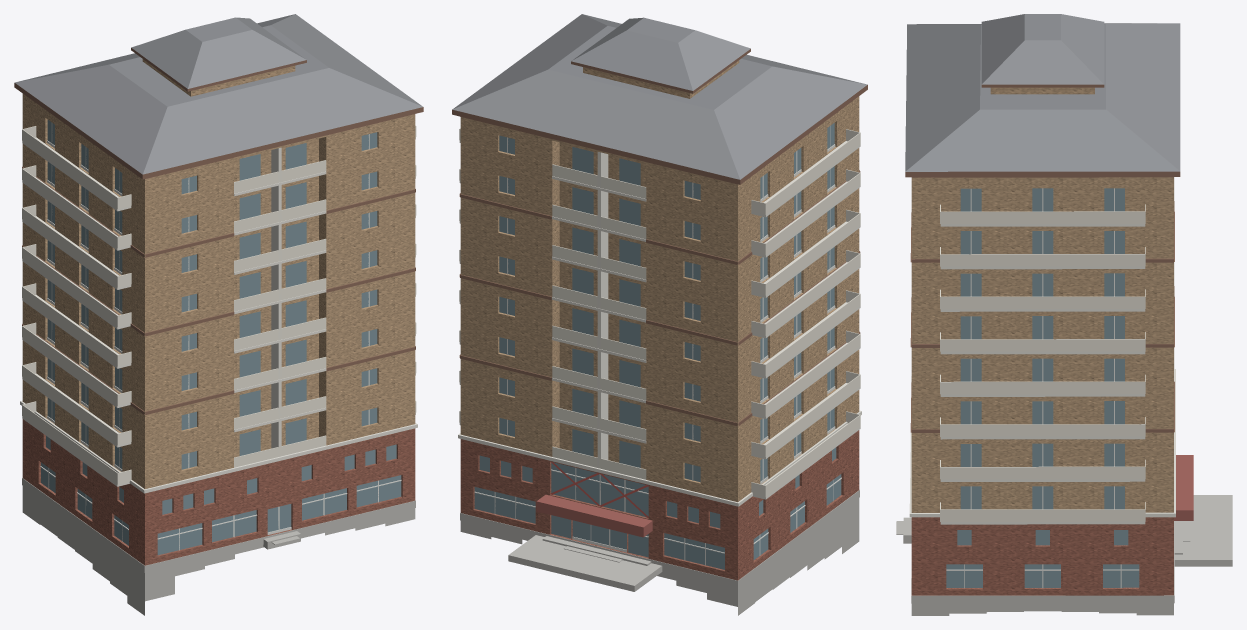
The picture shows the model from 3 angles, left to right: view 1: azimuth 30°, elevation 25°; view 2: azimuth 150°, elevation 25°; view 3: azimuth 270°, elevation 25°; orthographic projection. The views are drawn at different scales.
Parts seen in each view (by area): view 1: D3 ochre brick, D3 dark grey roof tiles, D3 blue grey glass, D3 red brick base, D3 balcony railing pole, D3 granite plinth and paving, D3 balcony slab edge pole, D3 dark brown band, D3 white window frames, D3 white string course; view 2: D3 ochre brick, D3 dark grey roof tiles, D3 blue grey glass, D3 balcony railing pole, D3 red brick base, D3 granite plinth and paving, D3 balcony slab edge pole, D3 dark brown band, D3 white window frames, D3 maroon sign band, D3 white string course; view 3: D3 ochre brick, D3 dark grey roof tiles, D3 balcony railing pole, D3 red brick base, D3 blue grey glass, D3 granite plinth and paving, D3 balcony slab edge pole, D3 dark brown band, D3 white window frames, D3 maroon sign band, D3 white string course.
Part boxes in pixels (x1,y1,x2,y2): D3 ochre brick: (22, 59, 415, 488); D3 dark grey roof tiles: (15, 14, 422, 174); D3 blue grey glass: (41, 120, 401, 555); D3 red brick base: (22, 419, 415, 565); D3 balcony railing pole: (22, 125, 416, 484); D3 granite plinth and paving: (22, 478, 415, 615); D3 balcony slab edge pole: (22, 137, 415, 486); D3 dark brown band: (14, 48, 423, 414); D3 white window frames: (40, 122, 401, 550); D3 white string course: (20, 400, 417, 493); D3 ochre brick: (460, 60, 859, 502); D3 dark grey roof tiles: (452, 14, 867, 179); D3 blue grey glass: (474, 123, 841, 569); D3 balcony railing pole: (459, 128, 860, 497); D3 red brick base: (460, 430, 859, 580); D3 granite plinth and paving: (460, 489, 859, 615); D3 balcony slab edge pole: (459, 140, 860, 499); D3 dark brown band: (452, 49, 867, 426); D3 white window frames: (474, 126, 841, 565); D3 maroon sign band: (536, 494, 652, 537); D3 white string course: (458, 410, 861, 506); D3 ochre brick: (911, 87, 1173, 512); D3 dark grey roof tiles: (905, 14, 1180, 171); D3 balcony railing pole: (940, 204, 1145, 521); D3 red brick base: (911, 517, 1173, 595); D3 blue grey glass: (946, 188, 1139, 587); D3 granite plinth and paving: (903, 495, 1232, 615); D3 balcony slab edge pole: (940, 177, 1174, 524); D3 dark brown band: (905, 84, 1180, 432); D3 white window frames: (946, 188, 1139, 588); D3 maroon sign band: (1174, 455, 1193, 520); D3 white string course: (909, 369, 1175, 517).
Size of the model in its own units: 28.65 by 46.65 by 25.79.
12 materials, 2 textured.
